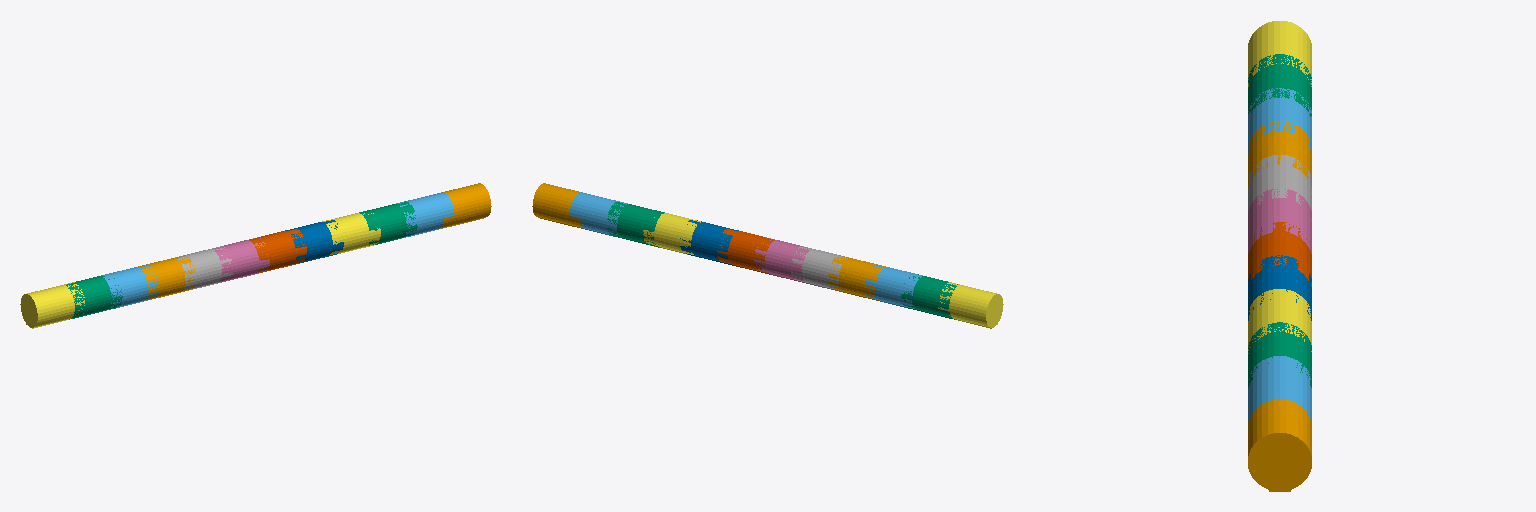
URDF robot description (kiro_robot_v2):
<?xml version="1.0" ?>
<robot name="kiro_robot_v2">
  
  <link name="1_head">
    <inertial>
      <mass value="0.192"/>
      <origin rpy="0  0  0" xyz="0  0  0"/>
      <inertia ixx="390949e-9" ixy="-59e-9" ixz="346e-9" iyy="400197e-9" iyz="355e-9" izz="73725e-9"/>
    </inertial>
    <collision name="1_head_collision">
      <origin rpy="0       1.57079  0" xyz="0     0     0.029"/>
      <geometry>
        <cylinder length=".092" radius=".029"/>
      </geometry>
    </collision>
    <collision name="1_head_pad_collision">
      <origin rpy="0       1.57079  0" xyz="0      0      0.0025"/>
      <geometry>
        <box size="0.005 0.020 0.092"/>
      </geometry>
    </collision>
    <visual name="1_head_visual">
      <origin rpy="0       1.57079  0" xyz="0     0     0.029"/>
      <geometry>
        <cylinder length=".092" radius=".029"/>
      </geometry>
    </visual>
    <visual name="1_head_pad_visual">
      <origin rpy="0       1.57079  0" xyz="0      0      0.0025"/>
      <geometry>
        <box size="0.005 0.020 0.092"/>
      </geometry>
    </visual>
  </link>

  <link name="2_link">
    <inertial>
      <mass value="0.192"/>
      <origin rpy="0  0  0" xyz="0  0  0"/>
      <inertia ixx="390949e-9" ixy="-59e-9" ixz="346e-9" iyy="400197e-9" iyz="355e-9" izz="73725e-9"/>
    </inertial>
    <collision name="2_link_collision">
      <origin rpy="0  0  0" xyz="0     0    -0.046"/>
      <geometry>
        <cylinder length=".071" radius=".029"/>
      </geometry>
    </collision>
    <collision name="2_link_pad_collision">
      <origin rpy="0  0  0" xyz="0.0265  0     -0.046"/>
      <geometry>
        <box size="0.005 0.020 0.071"/>
      </geometry>
    </collision>
    <visual name="2_link_visual">
      <origin rpy="0  0  0" xyz="0       0      -0.03549"/>
      <geometry>
        <cylinder length=".092" radius=".029"/>
      </geometry>
    </visual>
    <visual name="2_link_pad_visual">
      <origin rpy="0  0  0" xyz="0.0265   0      -0.03549"/>
      <geometry>
        <box size="0.005 0.020 0.092"/>
      </geometry>
    </visual>
  </link>

  <link name="3_link">
    <inertial>
      <mass value="0.192"/>
      <origin rpy="0  0  0" xyz="0  0  0"/>
      <inertia ixx="390949e-9" ixy="-59e-9" ixz="346e-9" iyy="400197e-9" iyz="355e-9" izz="73725e-9"/>
    </inertial>
    <collision name="3_link_collision">
      <origin rpy="0  0  0" xyz="0     0    -0.046"/>
      <geometry>
        <cylinder length=".071" radius=".029"/>
      </geometry>
    </collision>
    <collision name="3_link_pad_collision">
      <origin rpy="0  0  0" xyz="0.0265  0     -0.046"/>
      <geometry>
        <box size="0.005 0.020 0.071"/>
      </geometry>
    </collision>
    <visual name="3_link_visual">
      <origin rpy="0  0  0" xyz="0       0      -0.03549"/>
      <geometry>
        <cylinder length=".092" radius=".029"/>
      </geometry>
    </visual>
    <visual name="3_link_pad_visual">
      <origin rpy="0  0  0" xyz="0.0265   0      -0.03549"/>
      <geometry>
        <box size="0.005 0.020 0.092"/>
      </geometry>
    </visual>
  </link>

  <link name="4_link">
    <inertial>
      <mass value="0.192"/>
      <origin rpy="0  0  0" xyz="0  0  0"/>
      <inertia ixx="390949e-9" ixy="-59e-9" ixz="346e-9" iyy="400197e-9" iyz="355e-9" izz="73725e-9"/>
    </inertial>
    <collision name="4_link_collision">
      <origin rpy="0  0  0" xyz="0     0    -0.046"/>
      <geometry>
        <cylinder length=".071" radius=".029"/>
      </geometry>
    </collision>
    <collision name="4_link_pad_collision">
      <origin rpy="0  0  0" xyz="0.0265  0     -0.046"/>
      <geometry>
        <box size="0.005 0.020 0.071"/>
      </geometry>
    </collision>
    <visual name="4_link_visual">
      <origin rpy="0  0  0" xyz="0       0      -0.03549"/>
      <geometry>
        <cylinder length=".092" radius=".029"/>
      </geometry>
    </visual>
    <visual name="4_link_pad_visual">
      <origin rpy="0  0  0" xyz="0.0265   0      -0.03549"/>
      <geometry>
        <box size="0.005 0.020 0.092"/>
      </geometry>
    </visual>
  </link>

  <link name="5_link">
    <inertial>
      <mass value="0.192"/>
      <origin rpy="0  0  0" xyz="0  0  0"/>
      <inertia ixx="390949e-9" ixy="-59e-9" ixz="346e-9" iyy="400197e-9" iyz="355e-9" izz="73725e-9"/>
    </inertial>
    <collision name="5_link_collision">
      <origin rpy="0  0  0" xyz="0     0    -0.046"/>
      <geometry>
        <cylinder length=".071" radius=".029"/>
      </geometry>
    </collision>
    <collision name="5_link_pad_collision">
      <origin rpy="0  0  0" xyz="0.0265  0     -0.046"/>
      <geometry>
        <box size="0.005 0.020 0.071"/>
      </geometry>
    </collision>
    <visual name="5_link_visual">
      <origin rpy="0  0  0" xyz="0       0      -0.03549"/>
      <geometry>
        <cylinder length=".092" radius=".029"/>
      </geometry>
    </visual>
    <visual name="5_link_pad_visual">
      <origin rpy="0  0  0" xyz="0.0265   0      -0.03549"/>
      <geometry>
        <box size="0.005 0.020 0.092"/>
      </geometry>
    </visual>
  </link>

  <link name="6_link">
    <inertial>
      <mass value="0.192"/>
      <origin rpy="0  0  0" xyz="0  0  0"/>
      <inertia ixx="390949e-9" ixy="-59e-9" ixz="346e-9" iyy="400197e-9" iyz="355e-9" izz="73725e-9"/>
    </inertial>
    <collision name="6_link_collision">
      <origin rpy="0  0  0" xyz="0     0    -0.046"/>
      <geometry>
        <cylinder length=".071" radius=".029"/>
      </geometry>
    </collision>
    <collision name="6_link_pad_collision">
      <origin rpy="0  0  0" xyz="0.0265  0     -0.046"/>
      <geometry>
        <box size="0.005 0.020 0.071"/>
      </geometry>
    </collision>
    <visual name="6_link_visual">
      <origin rpy="0  0  0" xyz="0       0      -0.03549"/>
      <geometry>
        <cylinder length=".092" radius=".029"/>
      </geometry>
    </visual>
    <visual name="6_link_pad_visual">
      <origin rpy="0  0  0" xyz="0.0265   0      -0.03549"/>
      <geometry>
        <box size="0.005 0.020 0.092"/>
      </geometry>
    </visual>
  </link>

  <link name="7_link">
    <inertial>
      <mass value="0.192"/>
      <origin rpy="0  0  0" xyz="0  0  0"/>
      <inertia ixx="390949e-9" ixy="-59e-9" ixz="346e-9" iyy="400197e-9" iyz="355e-9" izz="73725e-9"/>
    </inertial>
    <collision name="7_link_collision">
      <origin rpy="0  0  0" xyz="0     0    -0.046"/>
      <geometry>
        <cylinder length=".071" radius=".029"/>
      </geometry>
    </collision>
    <collision name="7_link_pad_collision">
      <origin rpy="0  0  0" xyz="0.0265  0     -0.046"/>
      <geometry>
        <box size="0.005 0.020 0.071"/>
      </geometry>
    </collision>
    <visual name="7_link_visual">
      <origin rpy="0  0  0" xyz="0       0      -0.03549"/>
      <geometry>
        <cylinder length=".092" radius=".029"/>
      </geometry>
    </visual>
    <visual name="7_link_pad_visual">
      <origin rpy="0  0  0" xyz="0.0265   0      -0.03549"/>
      <geometry>
        <box size="0.005 0.020 0.092"/>
      </geometry>
    </visual>
  </link>

  <link name="8_link">
    <inertial>
      <mass value="0.192"/>
      <origin rpy="0  0  0" xyz="0  0  0"/>
      <inertia ixx="390949e-9" ixy="-59e-9" ixz="346e-9" iyy="400197e-9" iyz="355e-9" izz="73725e-9"/>
    </inertial>
    <collision name="8_link_collision">
      <origin rpy="0  0  0" xyz="0     0    -0.046"/>
      <geometry>
        <cylinder length=".071" radius=".029"/>
      </geometry>
    </collision>
    <collision name="8_link_pad_collision">
      <origin rpy="0  0  0" xyz="0.0265  0     -0.046"/>
      <geometry>
        <box size="0.005 0.020 0.071"/>
      </geometry>
    </collision>
    <visual name="8_link_visual">
      <origin rpy="0  0  0" xyz="0       0      -0.03549"/>
      <geometry>
        <cylinder length=".092" radius=".029"/>
      </geometry>
    </visual>
    <visual name="8_link_pad_visual">
      <origin rpy="0  0  0" xyz="0.0265   0      -0.03549"/>
      <geometry>
        <box size="0.005 0.020 0.092"/>
      </geometry>
    </visual>
  </link>

  <link name="9_link">
    <inertial>
      <mass value="0.192"/>
      <origin rpy="0  0  0" xyz="0  0  0"/>
      <inertia ixx="390949e-9" ixy="-59e-9" ixz="346e-9" iyy="400197e-9" iyz="355e-9" izz="73725e-9"/>
    </inertial>
    <collision name="9_link_collision">
      <origin rpy="0  0  0" xyz="0     0    -0.046"/>
      <geometry>
        <cylinder length=".071" radius=".029"/>
      </geometry>
    </collision>
    <collision name="9_link_pad_collision">
      <origin rpy="0  0  0" xyz="0.0265  0     -0.046"/>
      <geometry>
        <box size="0.005 0.020 0.071"/>
      </geometry>
    </collision>
    <visual name="9_link_visual">
      <origin rpy="0  0  0" xyz="0       0      -0.03549"/>
      <geometry>
        <cylinder length=".092" radius=".029"/>
      </geometry>
    </visual>
    <visual name="9_link_pad_visual">
      <origin rpy="0  0  0" xyz="0.0265   0      -0.03549"/>
      <geometry>
        <box size="0.005 0.020 0.092"/>
      </geometry>
    </visual>
  </link>

  <link name="10_link">
    <inertial>
      <mass value="0.192"/>
      <origin rpy="0  0  0" xyz="0  0  0"/>
      <inertia ixx="390949e-9" ixy="-59e-9" ixz="346e-9" iyy="400197e-9" iyz="355e-9" izz="73725e-9"/>
    </inertial>
    <collision name="10_link_collision">
      <origin rpy="0  0  0" xyz="0     0    -0.046"/>
      <geometry>
        <cylinder length=".071" radius=".029"/>
      </geometry>
    </collision>
    <collision name="10_link_pad_collision">
      <origin rpy="0  0  0" xyz="0.0265  0     -0.046"/>
      <geometry>
        <box size="0.005 0.020 0.071"/>
      </geometry>
    </collision>
    <visual name="10_link_visual">
      <origin rpy="0  0  0" xyz="0       0      -0.03549"/>
      <geometry>
        <cylinder length=".092" radius=".029"/>
      </geometry>
    </visual>
    <visual name="10_link_pad_visual">
      <origin rpy="0  0  0" xyz="0.0265   0      -0.03549"/>
      <geometry>
        <box size="0.005 0.020 0.092"/>
      </geometry>
    </visual>
  </link>

  <link name="11_link">
    <inertial>
      <mass value="0.192"/>
      <origin rpy="0  0  0" xyz="0  0  0"/>
      <inertia ixx="390949e-9" ixy="-59e-9" ixz="346e-9" iyy="400197e-9" iyz="355e-9" izz="73725e-9"/>
    </inertial>
    <collision name="11_link_collision">
      <origin rpy="0  0  0" xyz="0     0    -0.046"/>
      <geometry>
        <cylinder length=".071" radius=".029"/>
      </geometry>
    </collision>
    <collision name="11_link_pad_collision">
      <origin rpy="0  0  0" xyz="0.0265  0     -0.046"/>
      <geometry>
        <box size="0.005 0.020 0.071"/>
      </geometry>
    </collision>
    <visual name="11_link_visual">
      <origin rpy="0  0  0" xyz="0       0      -0.03549"/>
      <geometry>
        <cylinder length=".092" radius=".029"/>
      </geometry>
    </visual>
    <visual name="11_link_pad_visual">
      <origin rpy="0  0  0" xyz="0.0265   0      -0.03549"/>
      <geometry>
        <box size="0.005 0.020 0.092"/>
      </geometry>
    </visual>
  </link>

  <link name="12_tail">
    <inertial>
      <mass value="0.192"/>
      <origin rpy="0  0  0" xyz="0  0  0"/>
      <inertia ixx="390949e-9" ixy="-59e-9" ixz="346e-9" iyy="400197e-9" iyz="355e-9" izz="73725e-9"/>
    </inertial>
    <collision name="12_tail_collision">
      <origin rpy="0  0  0" xyz="0     0    -0.046"/>
      <geometry>
        <cylinder length=".071" radius=".029"/>
      </geometry>
    </collision>
    <collision name="12_tail_pad_collision">
      <origin rpy="0  0  0" xyz="0.0265  0     -0.046"/>
      <geometry>
        <box size="0.005 0.020 0.071"/>
      </geometry>
    </collision>
    <visual name="12_tail_visual">
      <origin rpy="0  0  0" xyz="0       0      -0.03549"/>
      <geometry>
        <cylinder length=".092" radius=".029"/>
      </geometry>
    </visual>
    <visual name="12_tail_pad_visual">
      <origin rpy="0  0  0" xyz="0.0265   0      -0.03549"/>
      <geometry>
        <box size="0.005 0.020 0.092"/>
      </geometry>
    </visual>
  </link>

  <joint name="1_joint" type="revolute">
    <parent link="1_head"/>
    <child link="2_link"/>
    <origin rpy="0       1.57079  0" xyz="-0.03549  0       0.029"/>
    <axis xyz="0  1  0"/>
    <limit effort="1.70775" lower="-1.57079632679" upper="1.57079632679" velocity="4.2"/>
  </joint>

  <joint name="2_joint" type="revolute">
    <parent link="2_link"/>
    <child link="3_link"/>
    <origin rpy="0  0  0" xyz="0       0      -0.07099"/>
    <axis xyz="-1  0  0"/>
    <limit effort="1.70775" lower="-1.57079632679" upper="1.57079632679" velocity="4.2"/>
  </joint>

  <joint name="3_joint" type="revolute">
    <parent link="3_link"/>
    <child link="4_link"/>
    <origin rpy="0  0  0" xyz="0       0      -0.07099"/>
    <axis xyz="0  1  0"/>
    <limit effort="1.70775" lower="-1.57079632679" upper="1.57079632679" velocity="4.2"/>
  </joint>

  <joint name="4_joint" type="revolute">
    <parent link="4_link"/>
    <child link="5_link"/>
    <origin rpy="0  0  0" xyz="0       0      -0.07099"/>
    <axis xyz="-1  0  0"/>
    <limit effort="1.70775" lower="-1.57079632679" upper="1.57079632679" velocity="4.2"/>
  </joint>

  <joint name="5_joint" type="revolute">
    <parent link="5_link"/>
    <child link="6_link"/>
    <origin rpy="0  0  0" xyz="0       0      -0.07099"/>
    <axis xyz="0  1  0"/>
    <limit effort="1.70775" lower="-1.57079632679" upper="1.57079632679" velocity="4.2"/>
  </joint>

  <joint name="6_joint" type="revolute">
    <parent link="6_link"/>
    <child link="7_link"/>
    <origin rpy="0  0  0" xyz="0       0      -0.07099"/>
    <axis xyz="-1  0  0"/>
    <limit effort="1.70775" lower="-1.57079632679" upper="1.57079632679" velocity="4.2"/>
  </joint>

  <joint name="7_joint" type="revolute">
    <parent link="7_link"/>
    <child link="8_link"/>
    <origin rpy="0  0  0" xyz="0       0      -0.07099"/>
    <axis xyz="0  1  0"/>
    <limit effort="1.70775" lower="-1.57079632679" upper="1.57079632679" velocity="4.2"/>
  </joint>

  <joint name="8_joint" type="revolute">
    <parent link="8_link"/>
    <child link="9_link"/>
    <origin rpy="0  0  0" xyz="0       0      -0.07099"/>
    <axis xyz="-1  0  0"/>
    <limit effort="1.70775" lower="-1.57079632679" upper="1.57079632679" velocity="4.2"/>
  </joint>

  <joint name="9_joint" type="revolute">
    <parent link="9_link"/>
    <child link="10_link"/>
    <origin rpy="0  0  0" xyz="0       0      -0.07099"/>
    <axis xyz="0  1  0"/>
    <limit effort="1.70775" lower="-1.57079632679" upper="1.57079632679" velocity="4.2"/>
  </joint>

  <joint name="10_joint" type="revolute">
    <parent link="10_link"/>
    <child link="11_link"/>
    <origin rpy="0  0  0" xyz="0       0      -0.07099"/>
    <axis xyz="-1  0  0"/>
    <limit effort="1.70775" lower="-1.57079632679" upper="1.57079632679" velocity="4.2"/>
  </joint>

  <joint name="11_joint" type="revolute">
    <parent link="11_link"/>
    <child link="12_tail"/>
    <origin rpy="0  0  0" xyz="0       0      -0.07099"/>
    <axis xyz="0  1  0"/>
    <limit effort="1.70775" lower="-1.57079632679" upper="1.57079632679" velocity="4.2"/>
  </joint>
  
</robot>

--- What the picture shows (computed from the rendered views, not written in the file) ---
The picture shows the robot from 3 angles, left to right: view 1: azimuth 30°, elevation 25°; view 2: azimuth 150°, elevation 25°; view 3: azimuth 270°, elevation 25°; orthographic projection.
Robot: kiro_robot_v2 — 12 links, 11 joints (11 revolute); root link 1_head; default pose: all joints at 0.
Links seen in each view (by area): view 1: 12_tail, 1_head, 3_link, 2_link, 6_link, 7_link, 9_link, 4_link, 10_link, 11_link, 8_link, 5_link; view 2: 12_tail, 1_head, 2_link, 3_link, 9_link, 6_link, 10_link, 4_link, 7_link, 11_link, 8_link, 5_link; view 3: 1_head, 2_link, 7_link, 12_tail, 11_link, 4_link, 8_link, 9_link, 3_link, 10_link, 6_link, 5_link.
Link boxes in pixels (left/top/right/bottom): 12_tail: left=20, top=282, right=84, bottom=328; 1_head: left=440, top=183, right=491, bottom=228; 3_link: left=359, top=201, right=417, bottom=245; 2_link: left=396, top=192, right=454, bottom=238; 6_link: left=249, top=229, right=306, bottom=273; 7_link: left=215, top=237, right=269, bottom=283; 9_link: left=138, top=255, right=195, bottom=301; 4_link: left=322, top=213, right=380, bottom=254; 10_link: left=101, top=265, right=158, bottom=310; 11_link: left=66, top=276, right=122, bottom=319; 8_link: left=175, top=246, right=232, bottom=290; 5_link: left=285, top=220, right=343, bottom=264; 12_tail: left=938, top=282, right=1003, bottom=328; 1_head: left=532, top=183, right=582, bottom=228; 2_link: left=569, top=192, right=627, bottom=238; 3_link: left=607, top=202, right=664, bottom=247; 9_link: left=828, top=255, right=885, bottom=301; 6_link: left=717, top=229, right=774, bottom=274; 10_link: left=865, top=265, right=922, bottom=308; 4_link: left=643, top=213, right=700, bottom=256; 7_link: left=754, top=237, right=809, bottom=283; 11_link: left=901, top=274, right=957, bottom=319; 8_link: left=791, top=246, right=847, bottom=290; 5_link: left=680, top=220, right=738, bottom=265; 1_head: left=1248, top=399, right=1311, bottom=491; 2_link: left=1248, top=356, right=1311, bottom=421; 7_link: left=1248, top=189, right=1311, bottom=253; 12_tail: left=1248, top=21, right=1311, bottom=86; 11_link: left=1248, top=54, right=1311, bottom=116; 4_link: left=1248, top=289, right=1311, bottom=353; 8_link: left=1248, top=155, right=1311, bottom=220; 9_link: left=1248, top=121, right=1311, bottom=186; 3_link: left=1248, top=322, right=1311, bottom=387; 10_link: left=1248, top=88, right=1311, bottom=153; 6_link: left=1248, top=222, right=1311, bottom=286; 5_link: left=1248, top=255, right=1311, bottom=320.
Bounding box of the posed robot: 0.8729 × 0.058 × 0.058 m (x, y, z).
Geometry: primitives only (box / cylinder / sphere), no mesh files.